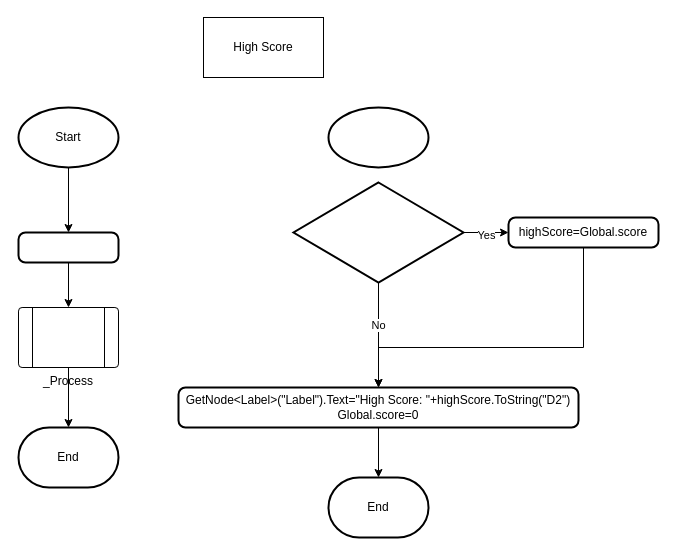
Some shapes in this 676 by 556 pixel diagram are drawn without their labels. The centre of each missing label's shape, as x and y in pixels:
"_Ready" goes at (378,137).
"if Global.score>highScore" goes at (378,232).
"int highScore=0" goes at (68,247).
